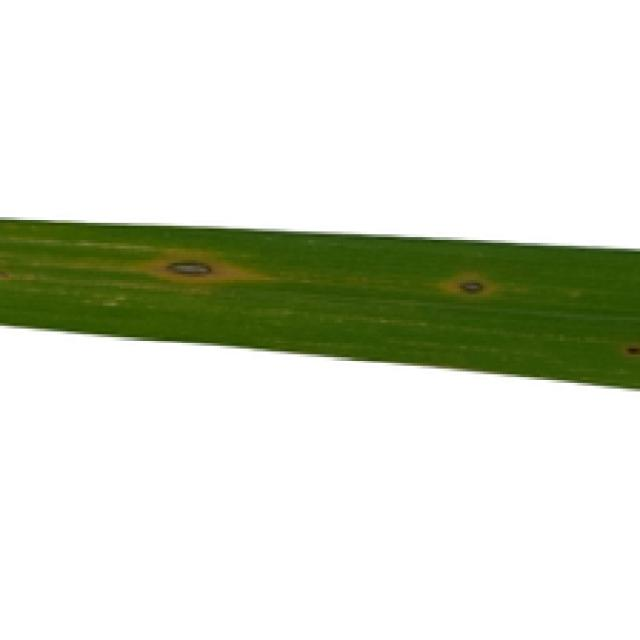Rice___Rice_Blast: (0, 217, 637, 387)
